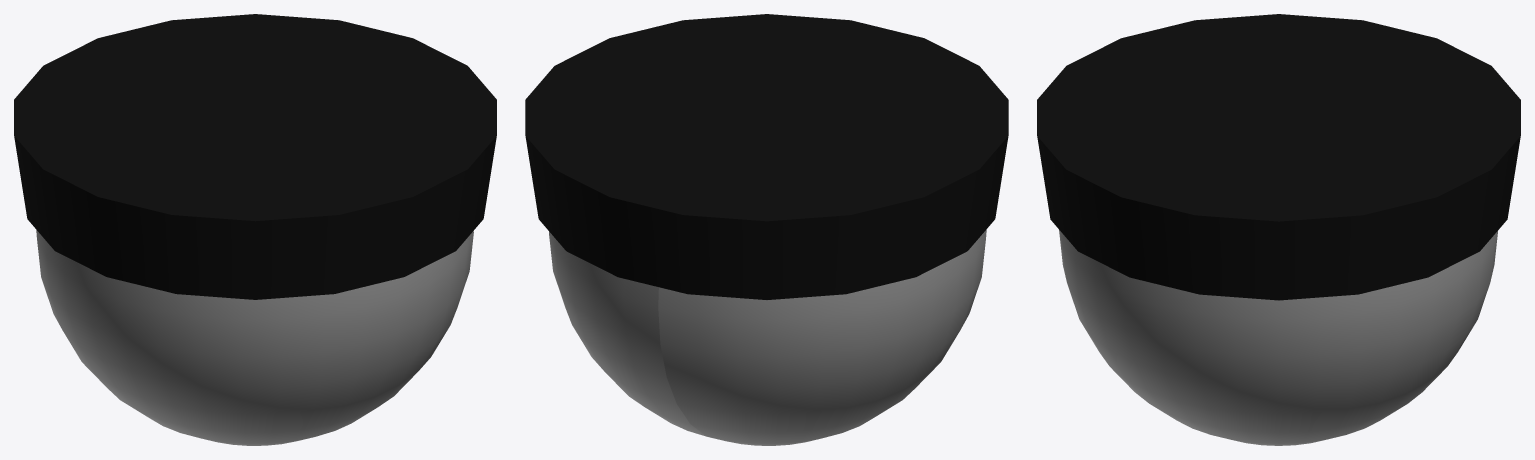
Rendered from Security camera.fbx.
3 views of the same model, side by side, from view 1: azimuth 30°, elevation 25°; view 2: azimuth 150°, elevation 25°; view 3: azimuth 270°, elevation 25° (orthographic).
Parts seen in each view (by area): view 1: security camera; view 2: security camera; view 3: security camera.
Part boxes in pixels (<box>): security camera: <box>14,14,496,445</box>; security camera: <box>525,14,1008,445</box>; security camera: <box>1037,14,1520,445</box>.
Size of the model in its own units: 16.91 by 11.71 by 16.65.
Materials: 2 (1 with a texture image).
